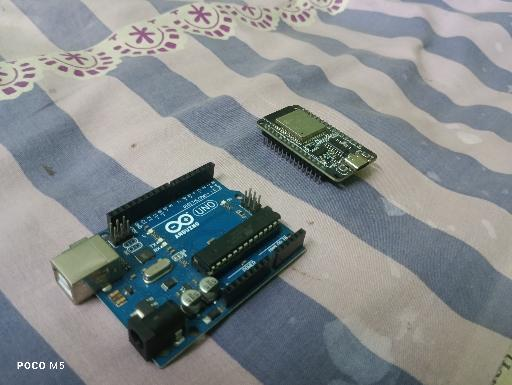Arduino: (51, 161, 307, 370)
Esp32: (257, 104, 378, 183)
